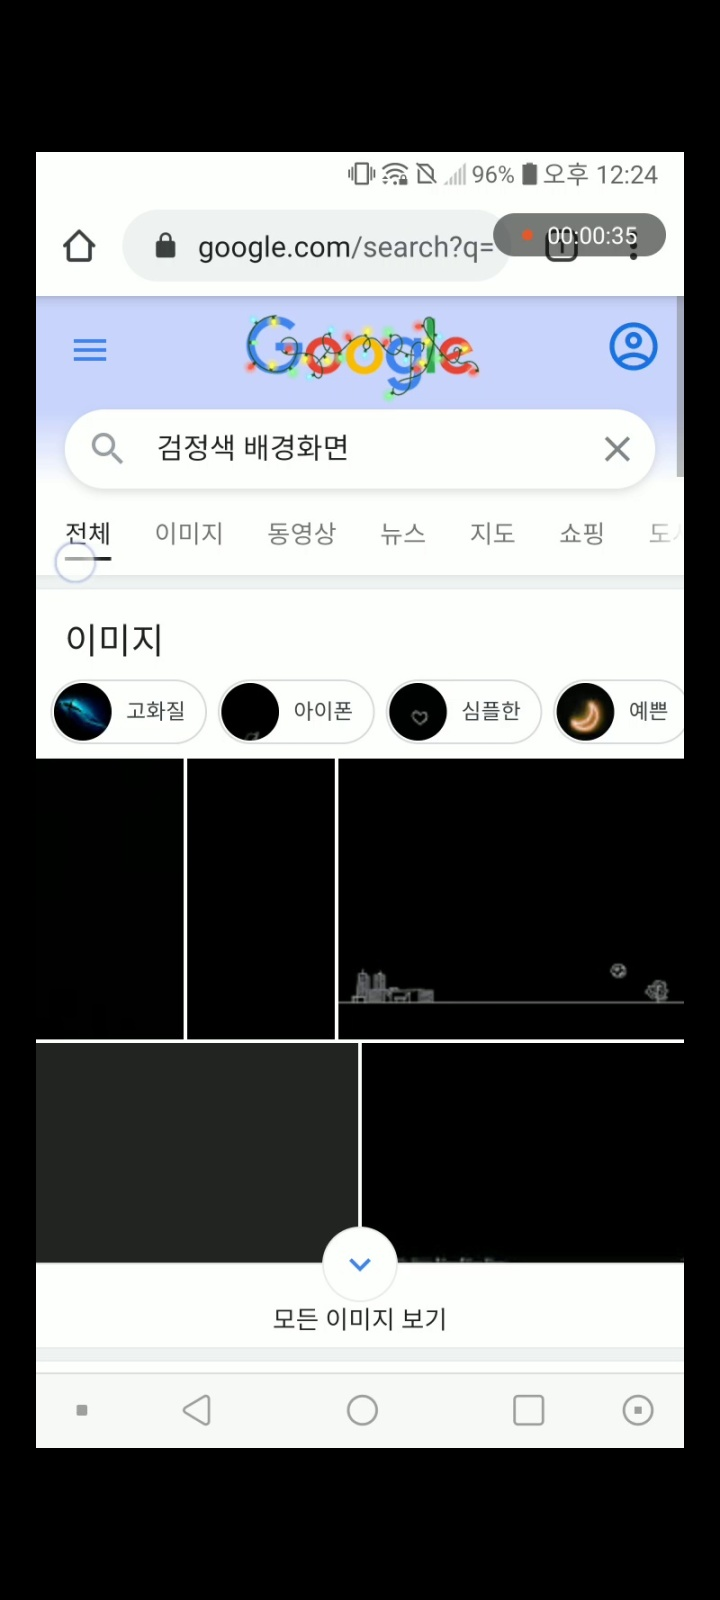Cursor: (54, 540, 99, 585)
